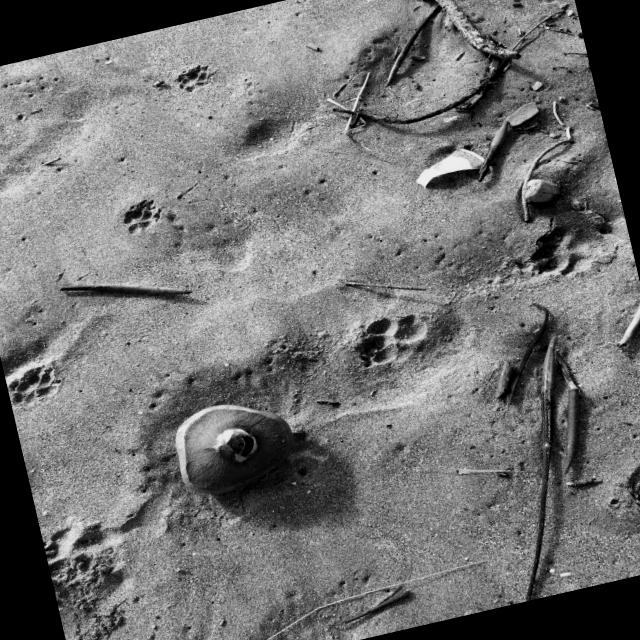Other plastic bottle: (416, 148, 489, 187), (446, 115, 457, 122)
